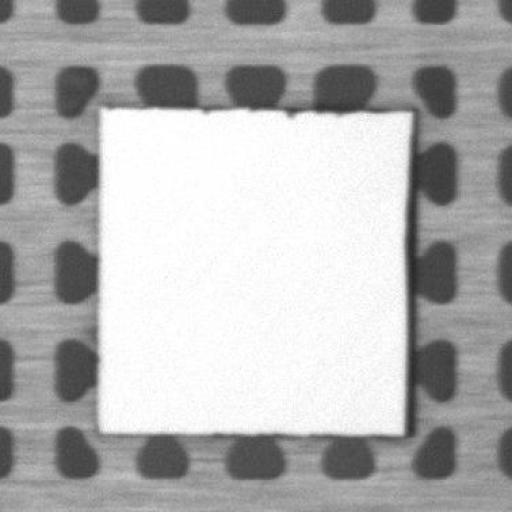DIE_BROKEN: (394, 118, 420, 430)
